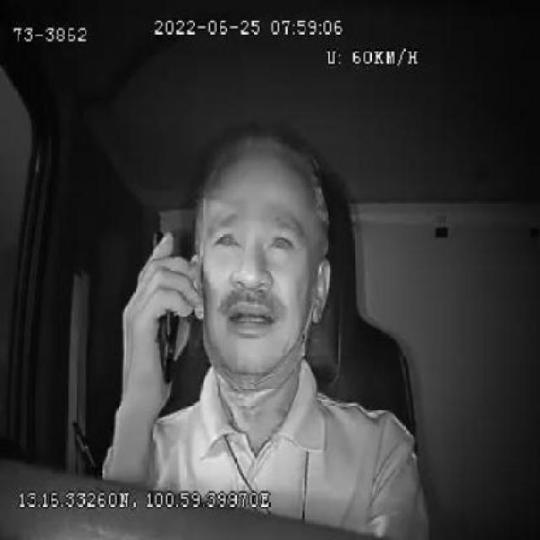phone: (147, 224, 183, 388)
